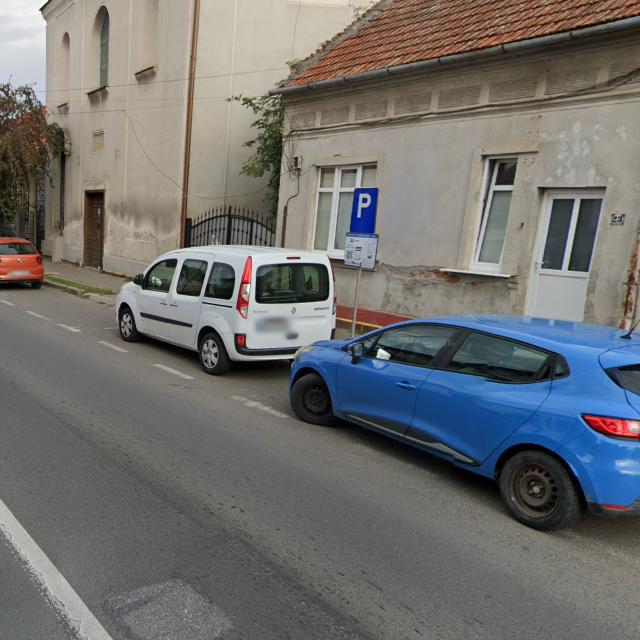info_parking: (348, 188, 379, 234)
